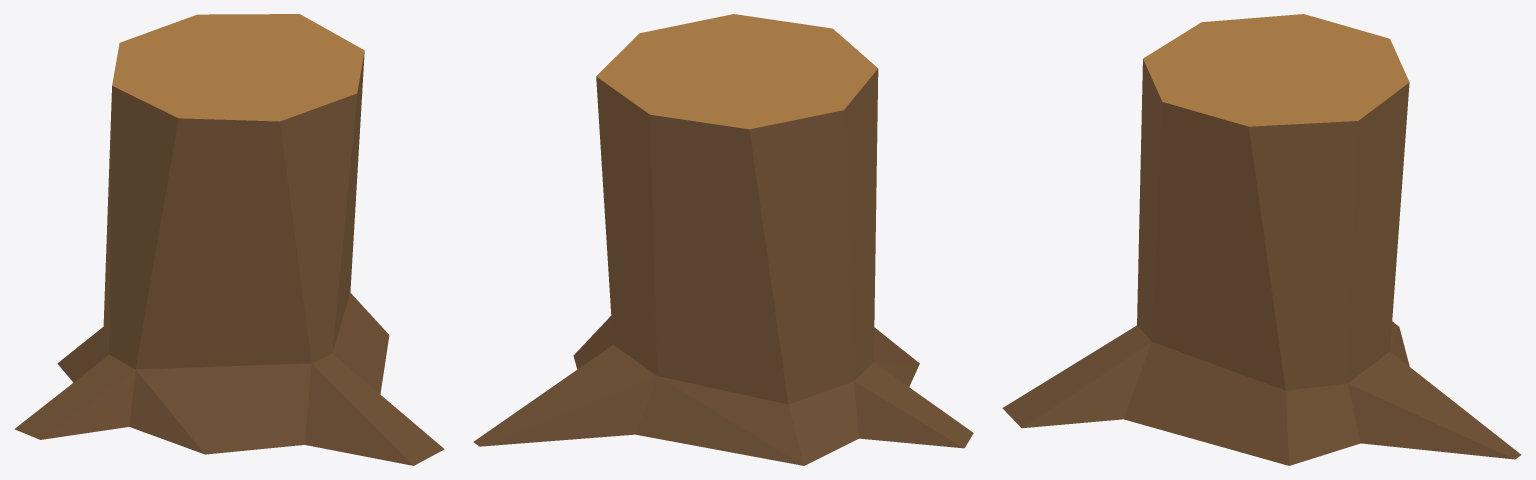
Rendered from stump-small.glb.
The picture shows the model from 3 angles, left to right: view 1: azimuth 30°, elevation 25°; view 2: azimuth 150°, elevation 25°; view 3: azimuth 270°, elevation 25°; orthographic projection. The views are drawn at different scales.
Visible parts, largest first — view 1: stump-small; view 2: stump-small; view 3: stump-small.
Part boxes in pixels (bbox=[...]): stump-small: bbox=[14, 14, 444, 465]; stump-small: bbox=[473, 14, 973, 465]; stump-small: bbox=[1002, 14, 1521, 465].
Size of the model in its own units: 0.7163 by 0.5615 by 0.8333.
1 material, 1 textured.
